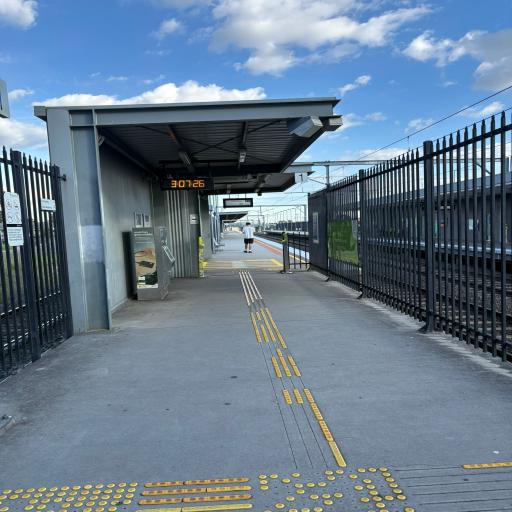Obstruction: (131, 229, 168, 302)
clear_path: (88, 267, 508, 467)
